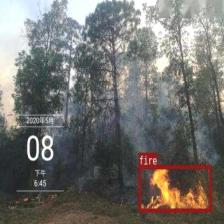fire: (138, 165, 211, 211)
